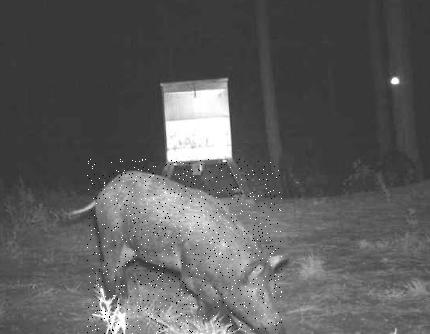Hog: (87, 159, 282, 334)
